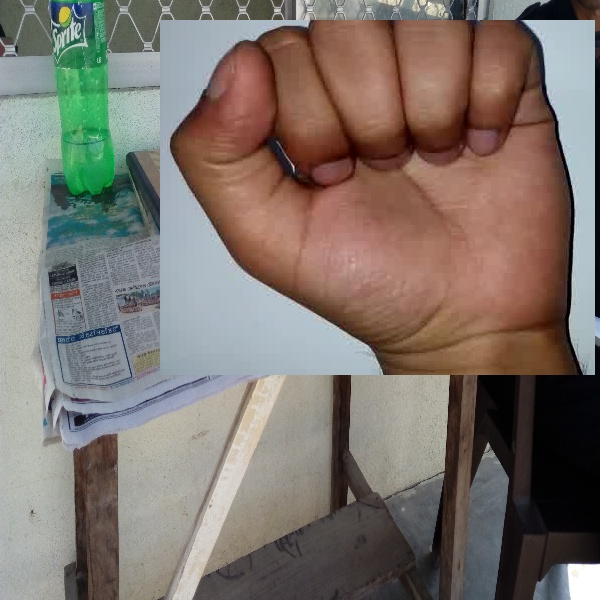A: (160, 20, 595, 375)
